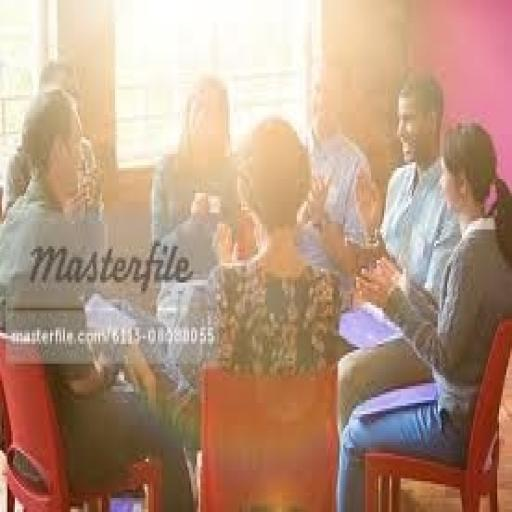clapping: (334, 118, 510, 509), (317, 76, 455, 395), (274, 61, 387, 412)
